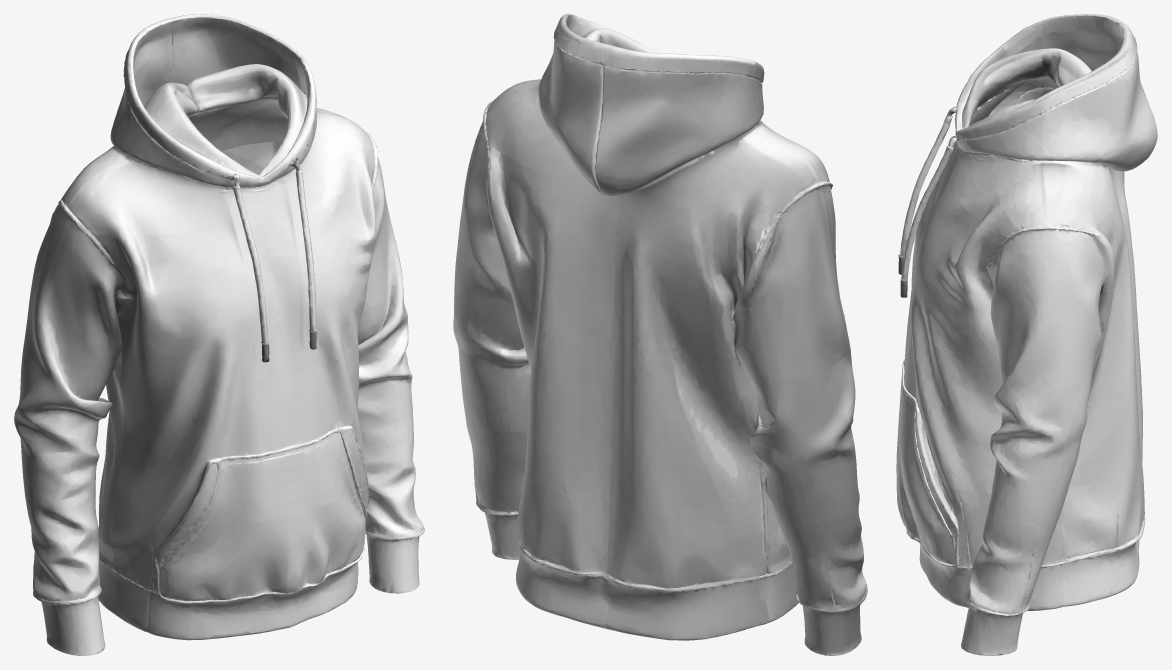
Rendered from buzo_web.glb.
The picture shows the model from 3 angles, left to right: view 1: azimuth 30°, elevation 25°; view 2: azimuth 150°, elevation 25°; view 3: azimuth 270°, elevation 25°; orthographic projection. The views are drawn at different scales.
Bounding box in the file's own units: 1.22 × 1.73 × 0.76.
Materials: 1 (1 with a texture image).
